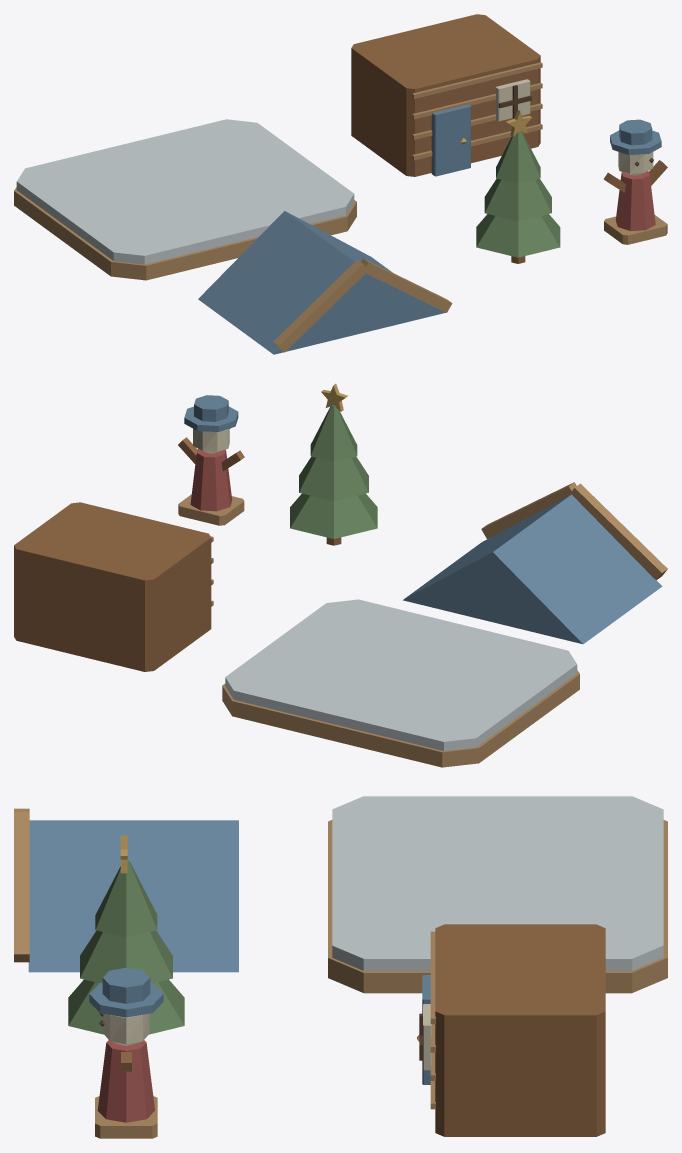
The model's file is craft_parts.glb.
3 renders of one model, top to bottom at view 1: azimuth 30°, elevation 25°; view 2: azimuth 150°, elevation 25°; view 3: azimuth 270°, elevation 25°, orthographic. The views are drawn at different scales.
Visible parts, largest first — view 1: base, body, roof, tree, figure; view 2: base, body, roof, tree, figure; view 3: base, body, roof, tree, figure.
Boxes of the visible parts, x1,y1,x2,y2 form: base: (14,119,356,280); body: (351,14,542,176); roof: (198,211,452,354); tree: (476,110,560,263); figure: (604,119,667,244); base: (222,599,579,767); body: (14,502,213,671); roof: (403,482,667,644); tree: (290,383,377,545); figure: (178,395,244,525); base: (328,796,667,993); body: (417,924,605,1136); roof: (14,808,238,972); tree: (68,835,184,1034); figure: (89,967,163,1138).
Bounding box in the file's own units: 1.68 × 0.515 × 1.46.
